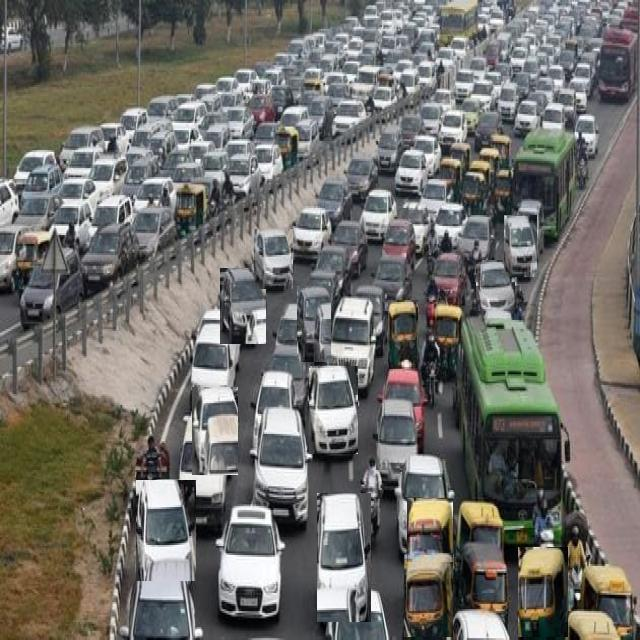autorickshaw: (519, 548, 568, 637), (457, 543, 507, 626), (405, 554, 453, 637), (408, 498, 453, 562), (389, 301, 418, 369)
bus: (456, 318, 564, 545)
car: (216, 505, 285, 617), (251, 407, 310, 526), (317, 494, 371, 622), (136, 480, 196, 581), (395, 454, 454, 553), (179, 416, 227, 531), (327, 296, 375, 392), (310, 367, 358, 454), (193, 387, 238, 475), (374, 400, 417, 488), (220, 269, 266, 344), (297, 287, 331, 362), (255, 229, 293, 289), (504, 216, 537, 277), (476, 261, 515, 311), (293, 207, 331, 258)
